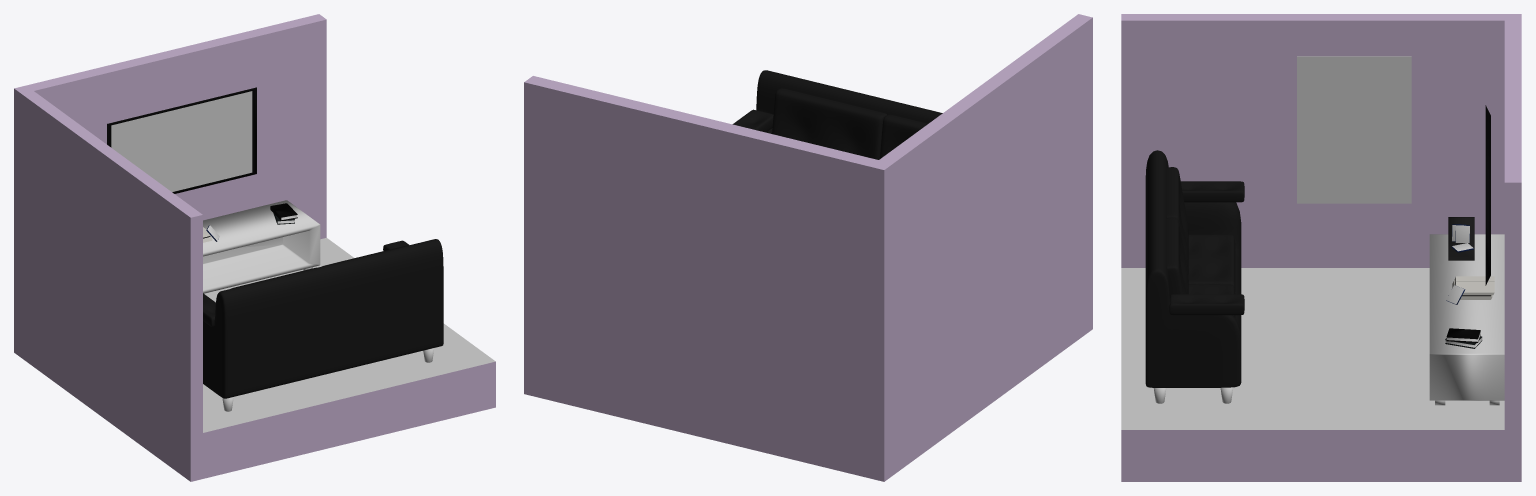
The model's file is LivingRoom.obj.
3 renders of one model, left to right at view 1: azimuth 30°, elevation 25°; view 2: azimuth 150°, elevation 25°; view 3: azimuth 270°, elevation 25°, orthographic. The views are drawn at different scales.
Visible parts, largest first — view 1: BaseRoom, Sofa, Tv, Table; view 2: BaseRoom, Plane.005, Sofa, Plane.004, Plane.007; view 3: BaseRoom, endOfEvangelion, Sofa, Table, Plane.002, Plane.007, Plane.005, Plane.006, Plane.004, Tv, PS4, BookCase (+2 smaller).
Boxes of the visible parts, left/top/right/bottom form: BaseRoom: left=14, top=14, right=495, bottom=481; Sofa: left=203, top=239, right=443, bottom=398; Tv: left=107, top=87, right=256, bottom=193; Table: left=203, top=200, right=320, bottom=293; BaseRoom: left=524, top=14, right=1092, bottom=481; Plane.005: left=772, top=88, right=886, bottom=159; Sofa: left=756, top=70, right=942, bottom=133; Plane.004: left=880, top=114, right=927, bottom=158; Plane.007: left=732, top=109, right=773, bottom=132; BaseRoom: left=1121, top=14, right=1521, bottom=481; endOfEvangelion: left=1297, top=56, right=1411, bottom=203; Sofa: left=1145, top=150, right=1241, bottom=387; Table: left=1429, top=234, right=1504, bottom=400; Plane.002: left=1188, top=234, right=1235, bottom=291; Plane.007: left=1169, top=294, right=1244, bottom=315; Plane.005: left=1166, top=217, right=1188, bottom=294; Plane.006: left=1181, top=181, right=1244, bottom=202; Plane.004: left=1166, top=167, right=1188, bottom=275; Tv: left=1485, top=105, right=1490, bottom=285; PS4: left=1452, top=276, right=1494, bottom=299; BookCase: left=1448, top=217, right=1474, bottom=260.
Size of what is drawn, in the model's own units: 8.33 by 6.89 by 8.36.
